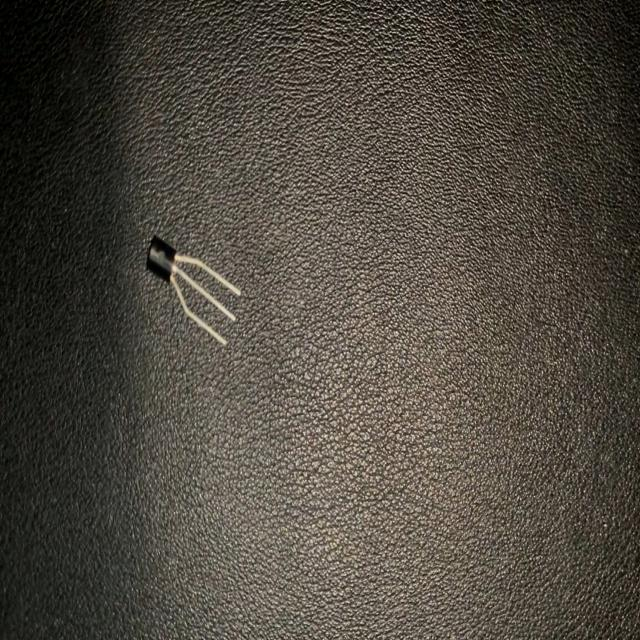BJT: (146, 232, 242, 350)
